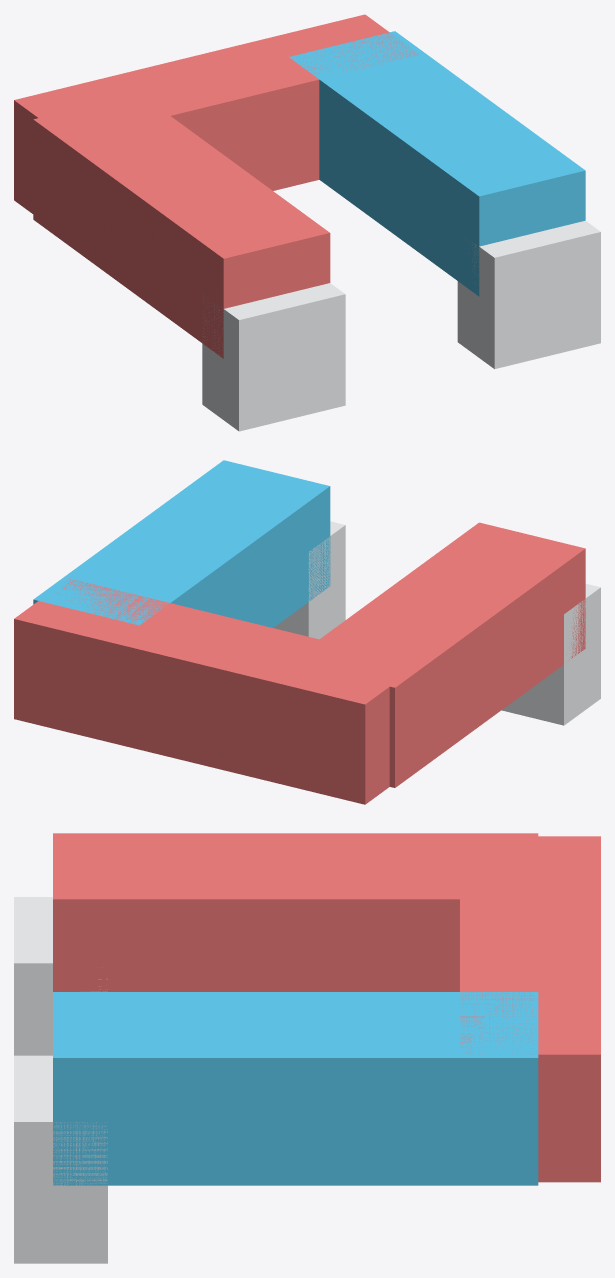
The model's file is magnet.glb.
3 views of the same model, one above another, from view 1: azimuth 30°, elevation 25°; view 2: azimuth 150°, elevation 25°; view 3: azimuth 270°, elevation 25° (orthographic). The views are drawn at different scales.
Visible parts, largest first — view 1: red, blue, red_1, white, white_1; view 2: red_1, red, blue, white, white_1; view 3: blue, red, red_1, white_1, white.
Boxes of the visible parts, <box> form: red: <box>33,94,330,358</box>; blue: <box>289,31,585,296</box>; red_1: <box>14,14,418,213</box>; white: <box>202,283,345,431</box>; white_1: <box>457,220,600,369</box>; red_1: <box>14,578,419,804</box>; red: <box>289,522,585,787</box>; blue: <box>33,460,330,627</box>; white: <box>501,583,600,725</box>; white_1: <box>273,521,345,639</box>; blue: <box>53,992,538,1185</box>; red: <box>53,833,538,991</box>; red_1: <box>460,836,600,1182</box>; white_1: <box>14,1055,107,1263</box>; white: <box>14,897,107,1055</box>.
Size of the model in its own units: 0.68 by 0.29 by 0.75.
